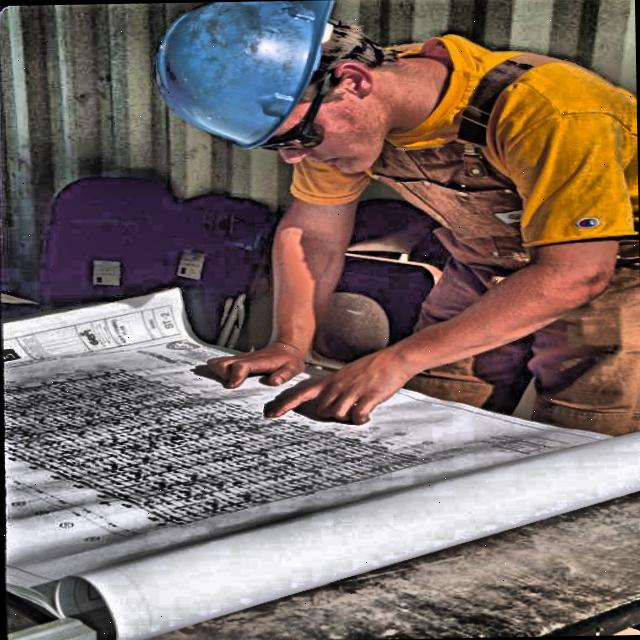helmet: (146, 0, 444, 182)
